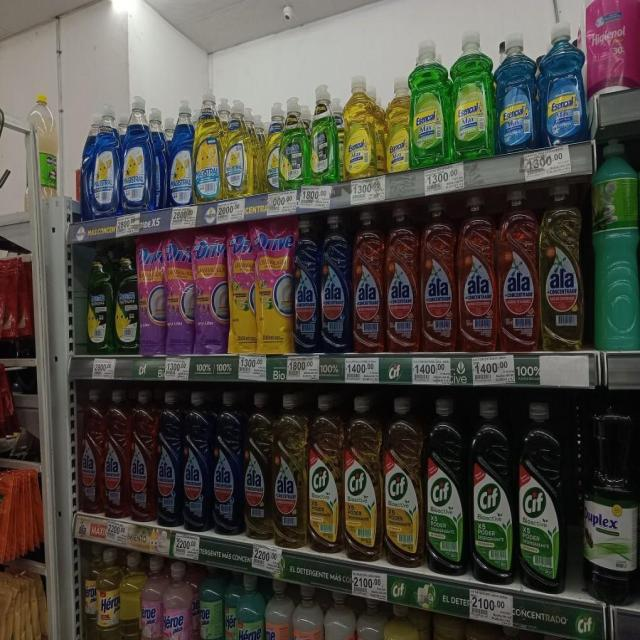ala_conc_amarillo: (540, 182, 585, 352), (272, 392, 306, 548), (243, 390, 272, 540)
ala_conc_azul: (212, 390, 242, 535), (320, 213, 351, 353), (182, 390, 210, 532), (156, 389, 182, 528), (294, 217, 319, 354)
ala_conc_rojo: (498, 186, 540, 352), (458, 192, 497, 352), (421, 198, 456, 352), (385, 203, 419, 354), (352, 208, 384, 355), (130, 388, 155, 524), (78, 388, 103, 516), (104, 388, 128, 520)
ala_crem_amarillo: (384, 602, 424, 640), (428, 614, 464, 640), (463, 621, 498, 640)
cif_conc_bot_amarilla: (384, 395, 423, 565), (343, 394, 382, 561), (308, 394, 342, 553)
cif_conc_botella_verde: (517, 400, 567, 592), (470, 397, 514, 583), (425, 396, 467, 574)
drive: (195, 228, 227, 354), (229, 223, 255, 353)
heroe: (162, 560, 194, 640), (96, 547, 120, 640), (197, 564, 223, 640), (237, 571, 264, 640), (140, 555, 162, 639), (293, 582, 324, 640), (265, 577, 292, 640), (325, 590, 357, 640), (357, 597, 385, 640), (224, 569, 238, 640)
magistral_con_amarillo: (194, 90, 222, 204), (223, 95, 252, 198), (263, 97, 281, 192)
magistral_con_azul: (82, 102, 119, 218), (168, 96, 193, 207)
